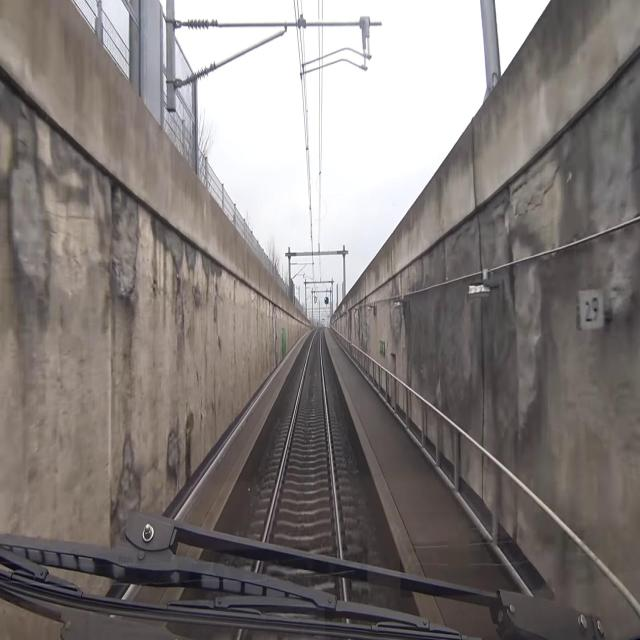rail-track: (268, 327, 337, 546)
